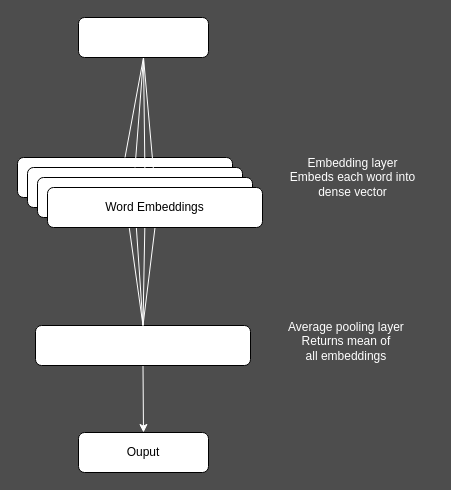
Some shapes in this 451 by 490 pixel diagram are drawn without their labels. The centre of each missing label's shape, as x and y in pixels:
"Average Pooling" belongs at pixel 142 345.
"Input" belongs at pixel 143 37.
